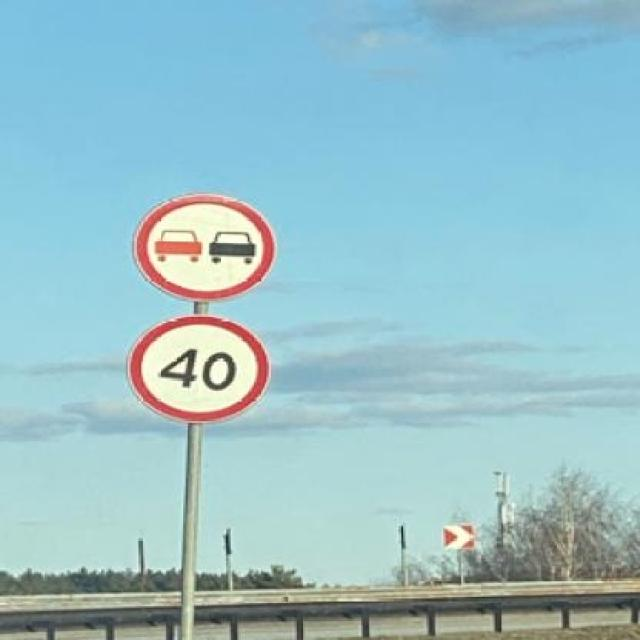forb_speed_over_40: (130, 314, 264, 425)
